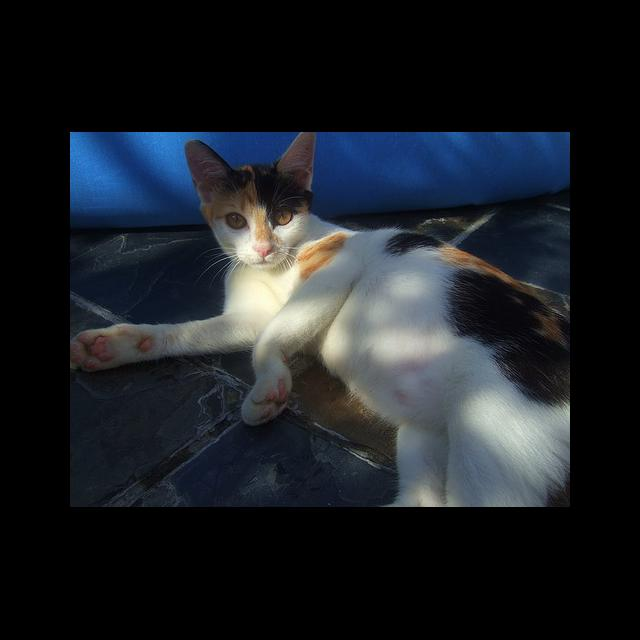animals: (191, 132, 310, 256)
